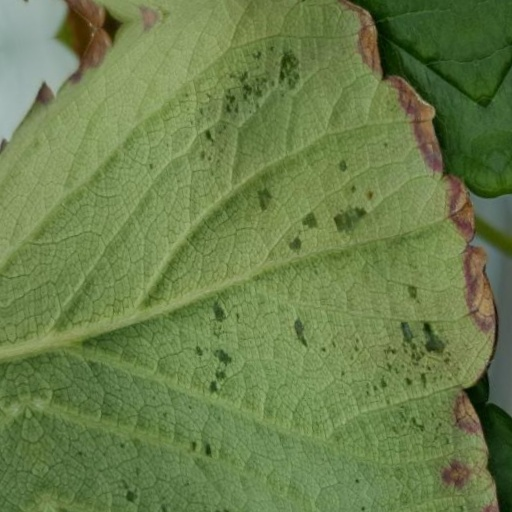Angular Leafspot: (32, 0, 450, 471)
